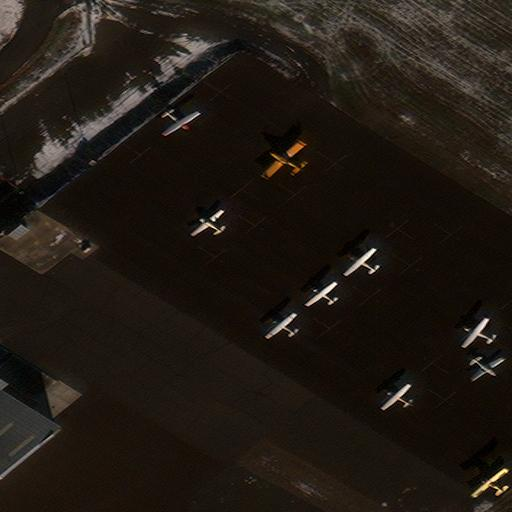Small Civil Transport: (259, 139, 300, 175), (469, 467, 504, 495), (164, 111, 201, 136), (460, 317, 493, 345), (342, 247, 375, 273), (379, 383, 413, 408), (189, 208, 222, 233), (471, 358, 506, 381), (303, 281, 334, 304), (265, 312, 294, 336)
